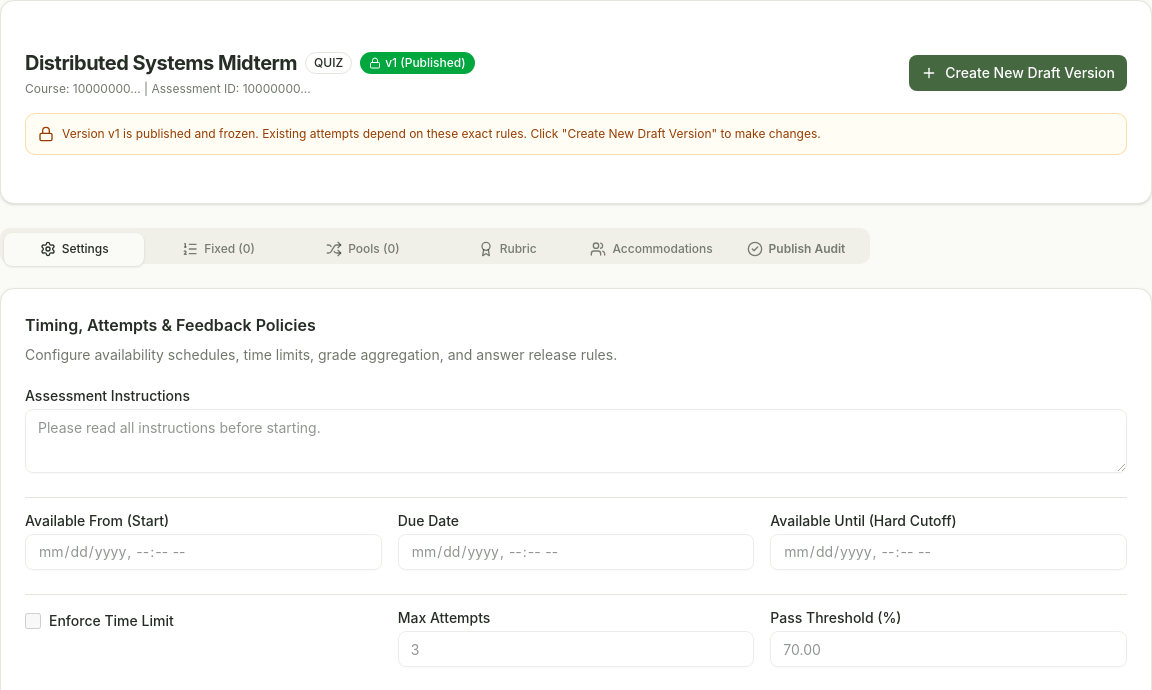
it: AssessmentVersionEditor Component › clones published version into new draft version when clicking Create New Draft
Click the button "Create New Draft Version". click: (1018, 73)
box: 909,55 -> 1127,91
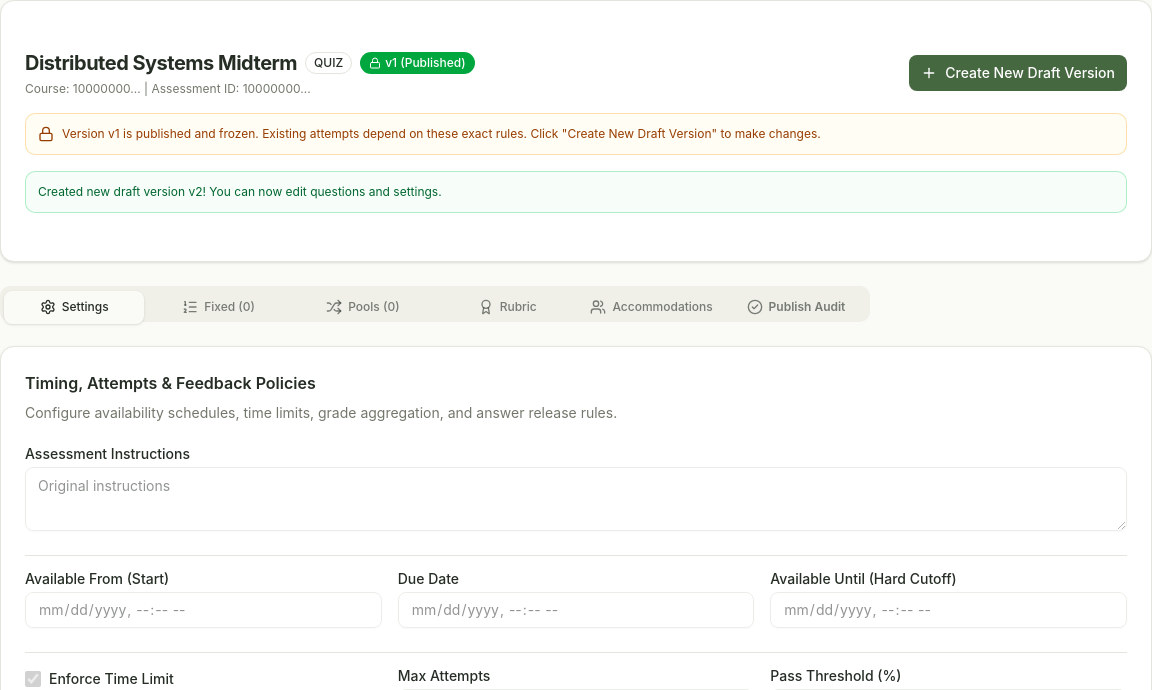
Expected: the text "Created new draft version" is shown, 38,184 -> 442,199
